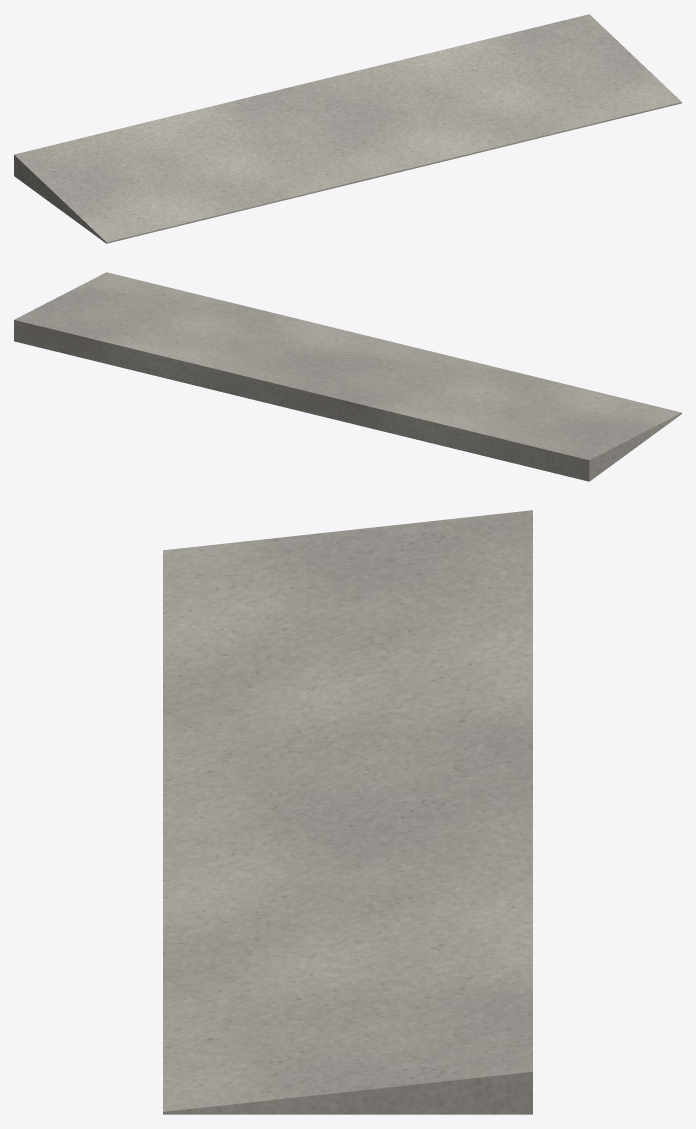
File: barn_ramp.glb
The picture shows the model from 3 angles, top to bottom: view 1: azimuth 30°, elevation 25°; view 2: azimuth 150°, elevation 25°; view 3: azimuth 270°, elevation 25°; orthographic projection. The views are drawn at different scales.
Parts seen in each view (by area): view 1: barn_ramp_concrete; view 2: barn_ramp_concrete; view 3: barn_ramp_concrete.
Boxes of the visible parts, x1,y1,x2,y2 form: barn_ramp_concrete: [14, 14, 681, 243]; barn_ramp_concrete: [14, 272, 681, 481]; barn_ramp_concrete: [163, 510, 532, 1114].
Bounding box in the file's own units: 4.2 × 0.15 × 1.17.
1 material, 1 textured.
